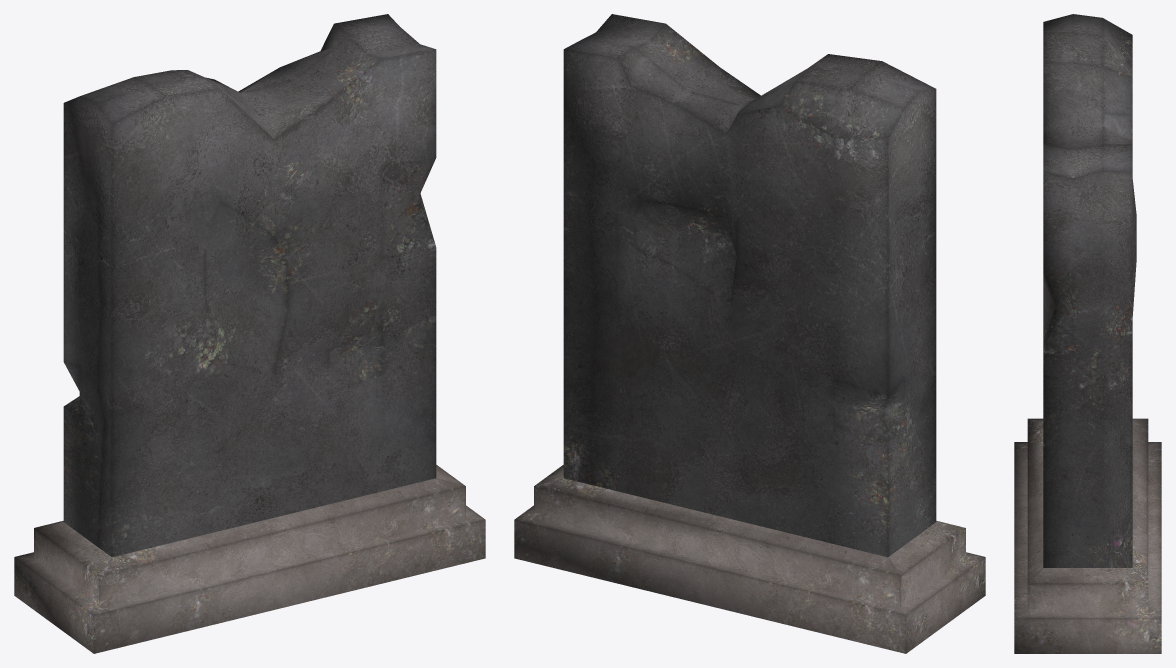
File: Stale_1.FBX
The picture shows the model from 3 angles, left to right: view 1: azimuth 30°, elevation 25°; view 2: azimuth 150°, elevation 25°; view 3: azimuth 270°, elevation 25°; orthographic projection. The views are drawn at different scales.
Visible parts, largest first — view 1: Stela_1; view 2: Stela_1; view 3: Stela_1.
Part boxes in pixels (left/top/right/bottom): Stela_1: left=14, top=14, right=485, bottom=653; Stela_1: left=514, top=14, right=985, bottom=653; Stela_1: left=1014, top=14, right=1161, bottom=653.
Bounding box in the file's own units: 39.79 × 50.9 × 14.03.
